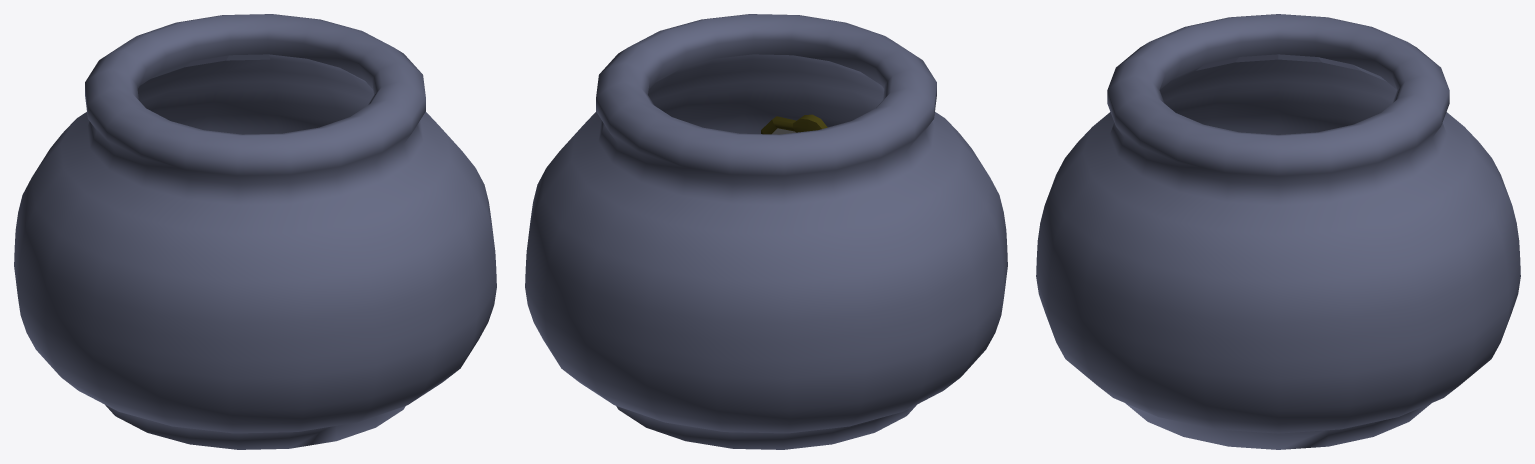
Rendered from FishBowlScene.obj.
3 views of the same model, side by side, from view 1: azimuth 30°, elevation 25°; view 2: azimuth 150°, elevation 25°; view 3: azimuth 270°, elevation 25° (orthographic).
Parts seen in each view (by area): view 1: Bowl; view 2: Bowl, Vanity; view 3: Bowl.
Boxes of the visible parts, x1=… form: Bowl: x1=14, y1=14, x2=496, y2=449; Bowl: x1=525, y1=14, x2=1007, y2=449; Vanity: x1=761, y1=114, x2=827, y2=134; Bowl: x1=1036, y1=14, x2=1520, y2=449.
Bounding box in the file's own units: 15.24 × 10.61 × 15.24.
